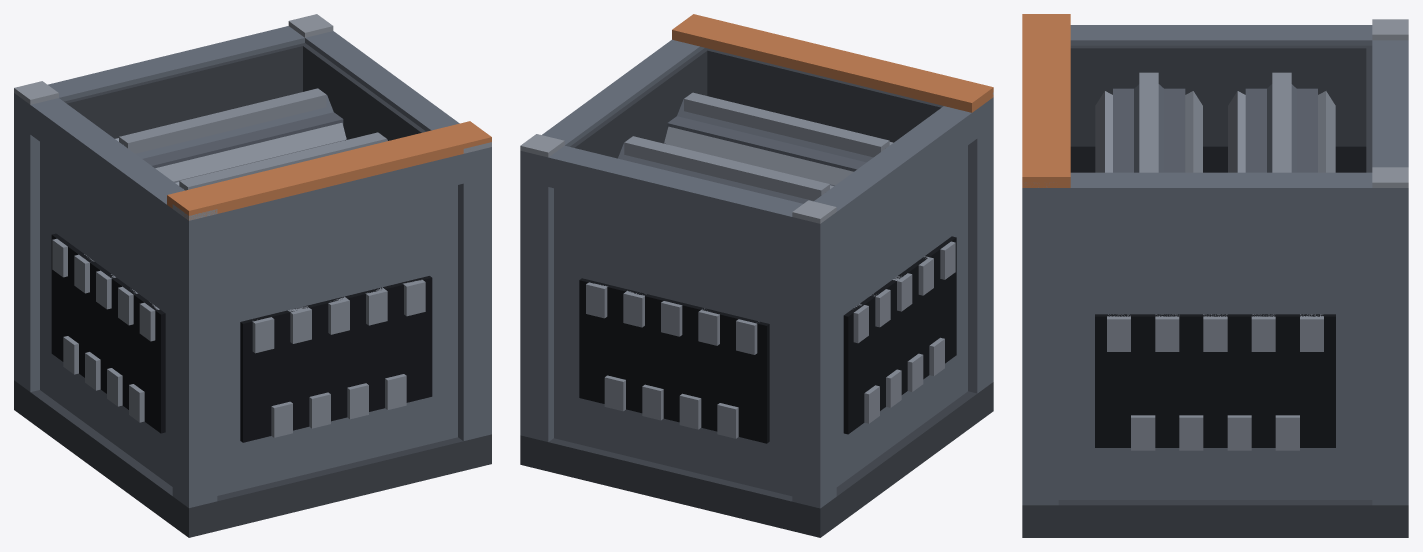
File: crusher.glb
3 views of the same model, side by side, from view 1: azimuth 30°, elevation 25°; view 2: azimuth 150°, elevation 25°; view 3: azimuth 270°, elevation 25° (orthographic). The views are drawn at different scales.
Visible parts, largest first — view 1: body.010, roll_b, tier.002, roll_a; view 2: body.010, roll_a, tier.002, roll_b; view 3: body.010, roll_a, roll_b, tier.002.
Boxes of the visible parts, box(x1,y1,x2,y2) form: body.010: box(14, 14, 491, 537); roll_b: box(115, 88, 346, 182); tier.002: box(167, 121, 491, 220); roll_a: box(175, 132, 387, 190); body.010: box(520, 39, 993, 537); roll_a: box(664, 92, 893, 185); tier.002: box(672, 14, 993, 112); roll_b: box(618, 136, 833, 203); body.010: box(1022, 19, 1408, 537); roll_a: box(1095, 72, 1202, 172); roll_b: box(1228, 72, 1335, 172); tier.002: box(1022, 14, 1070, 187).
Size of the model in its own units: 1 by 1.03 by 1.
